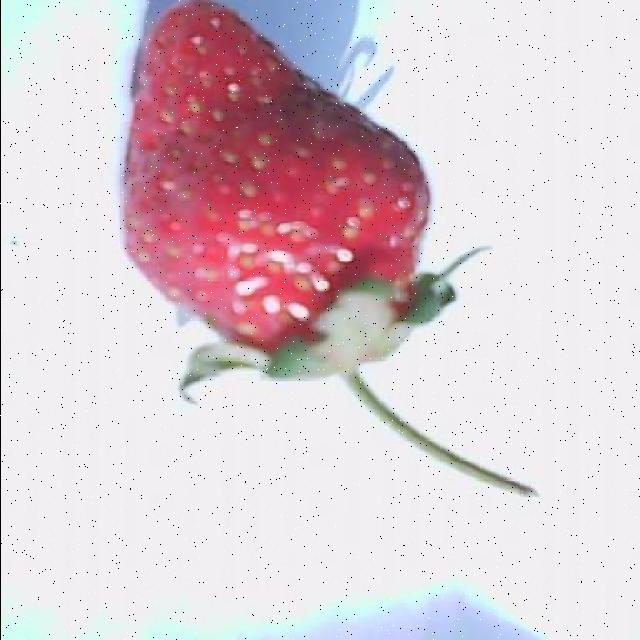strawberry: (125, 0, 530, 493)
